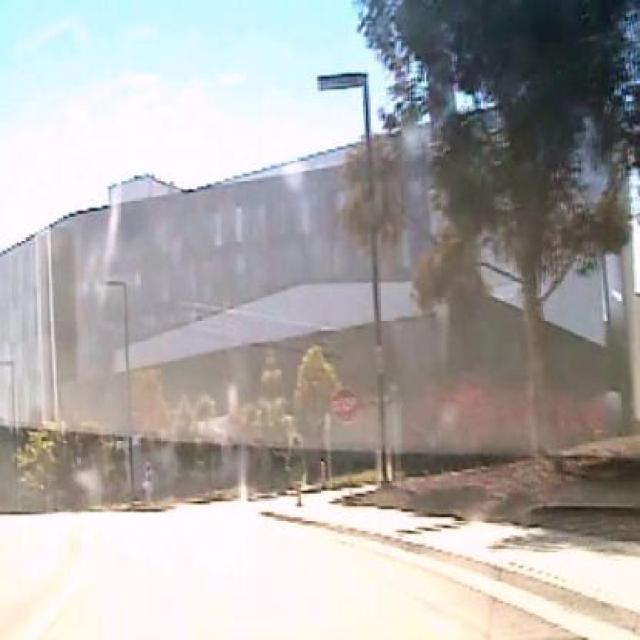stop: (331, 386, 357, 424)
